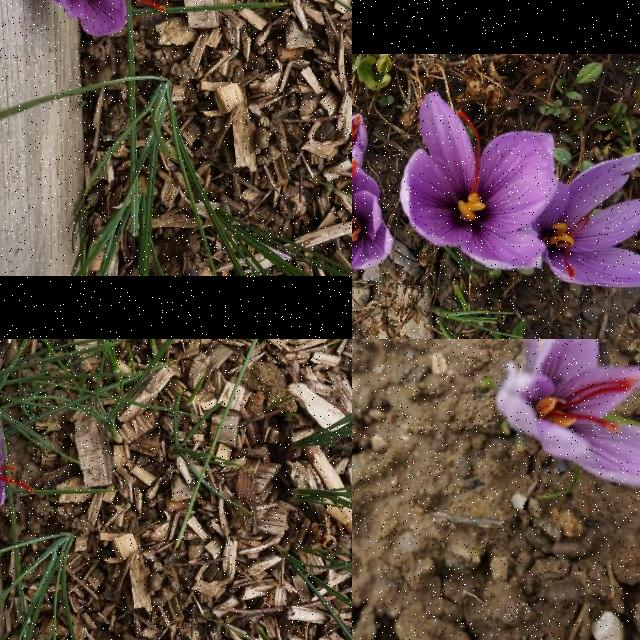flower: (399, 91, 559, 271), (498, 339, 640, 488), (520, 153, 640, 289), (352, 159, 394, 301), (29, 0, 166, 40), (0, 408, 35, 515), (352, 114, 369, 179)
